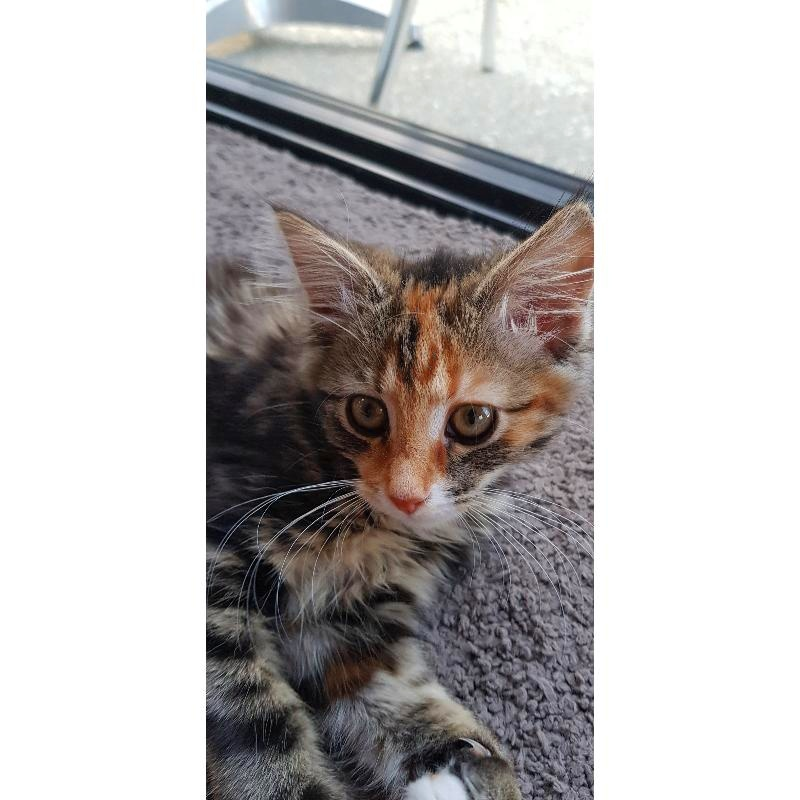red: (206, 186, 594, 799)
